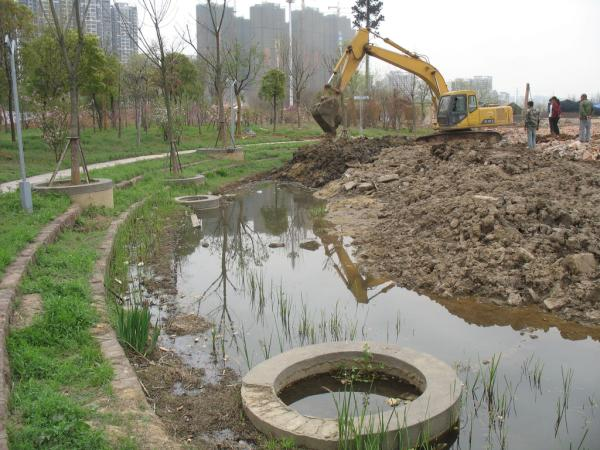garbagetruck: (321, 20, 530, 153)
